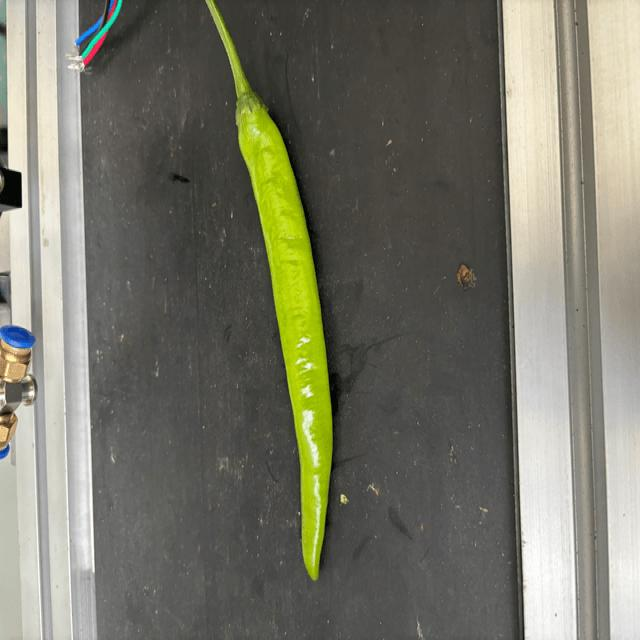chili: (232, 88, 333, 586)
